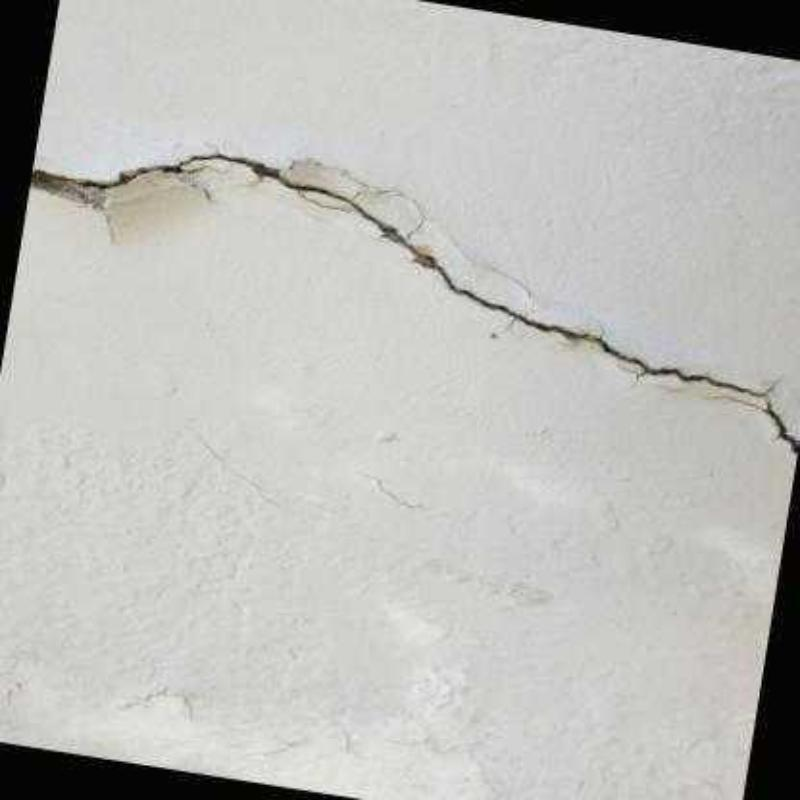pothole: (29, 149, 799, 456)
